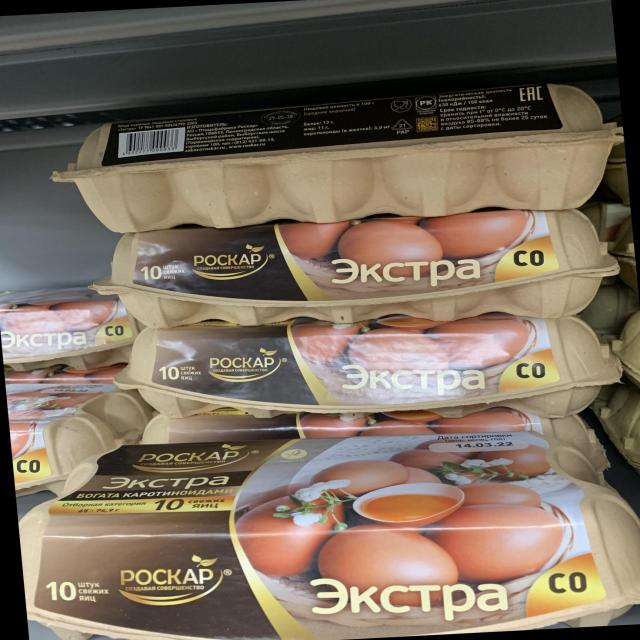organic waste: (11, 414, 639, 640), (86, 206, 627, 337), (105, 307, 632, 431), (5, 377, 154, 495), (0, 282, 142, 381)
